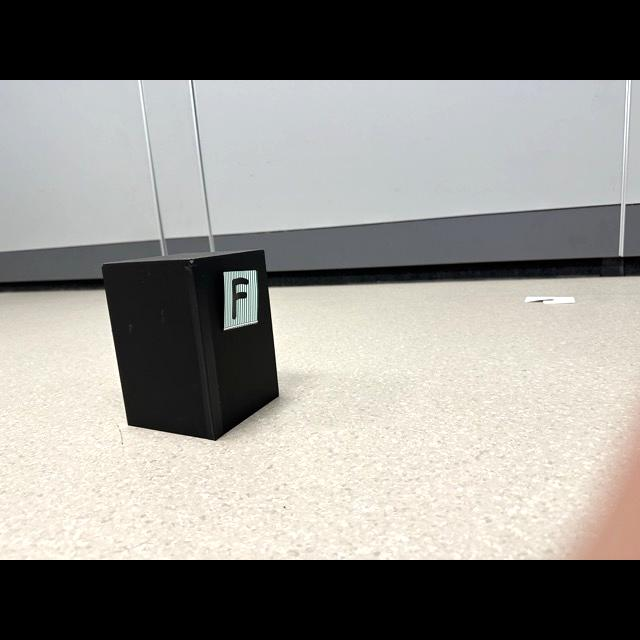F: (232, 277, 249, 320)
